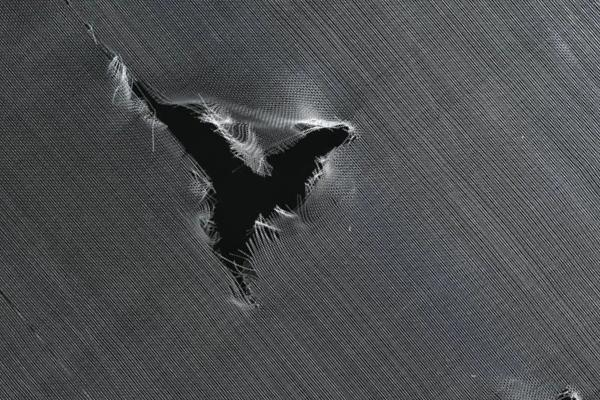hole: (102, 52, 362, 311)
